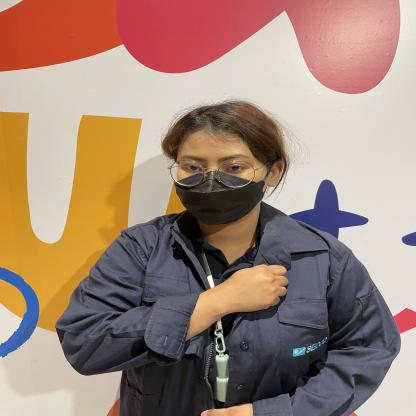Sadness: (163, 250, 319, 336)
